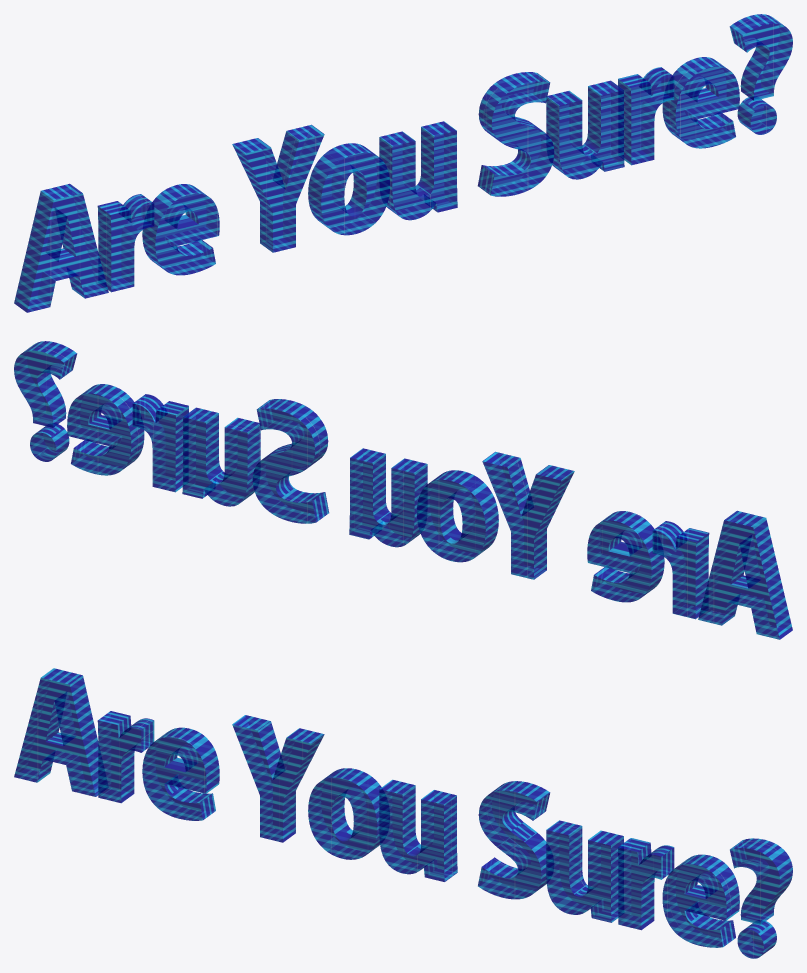
File: Are_you_sure_text.fbx
The picture shows the model from 3 angles, top to bottom: view 1: azimuth 30°, elevation 25°; view 2: azimuth 150°, elevation 25°; view 3: azimuth 330°, elevation 25°; orthographic projection.
Visible parts, largest first — view 1: typeMesh1; view 2: typeMesh1; view 3: typeMesh1.
Boxes of the visible parts, <box> form: typeMesh1: <box>14,14,792,312</box>; typeMesh1: <box>14,341,792,639</box>; typeMesh1: <box>14,668,792,958</box>.
Bounding box in the file's own units: 84.87 × 11.59 × 2.5.
